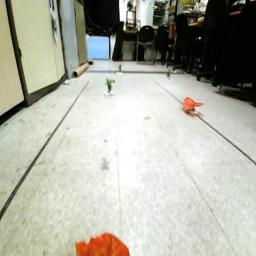herb: (107, 78, 117, 97)
wild: (76, 229, 131, 256), (182, 97, 207, 116)
